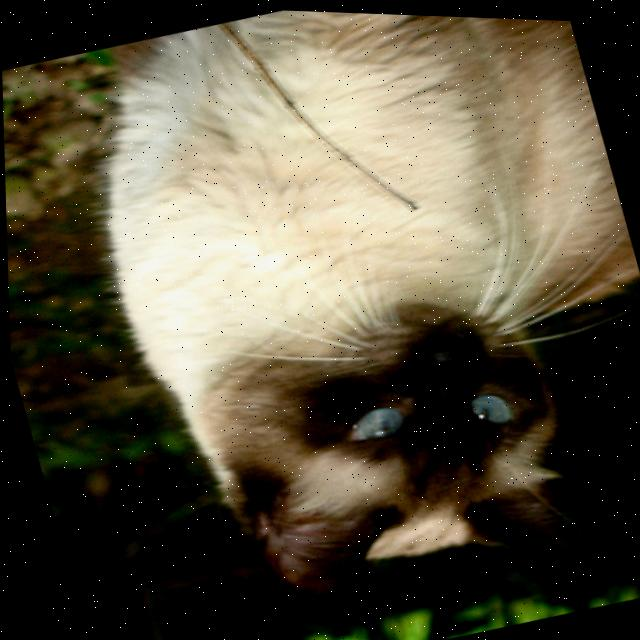Siamese: (48, 1, 640, 640)
